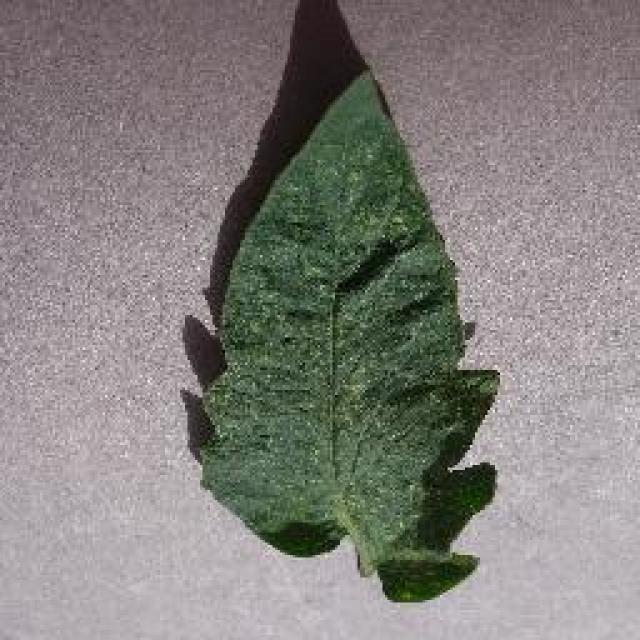Tomato spider mites leaf: (195, 67, 500, 606)
